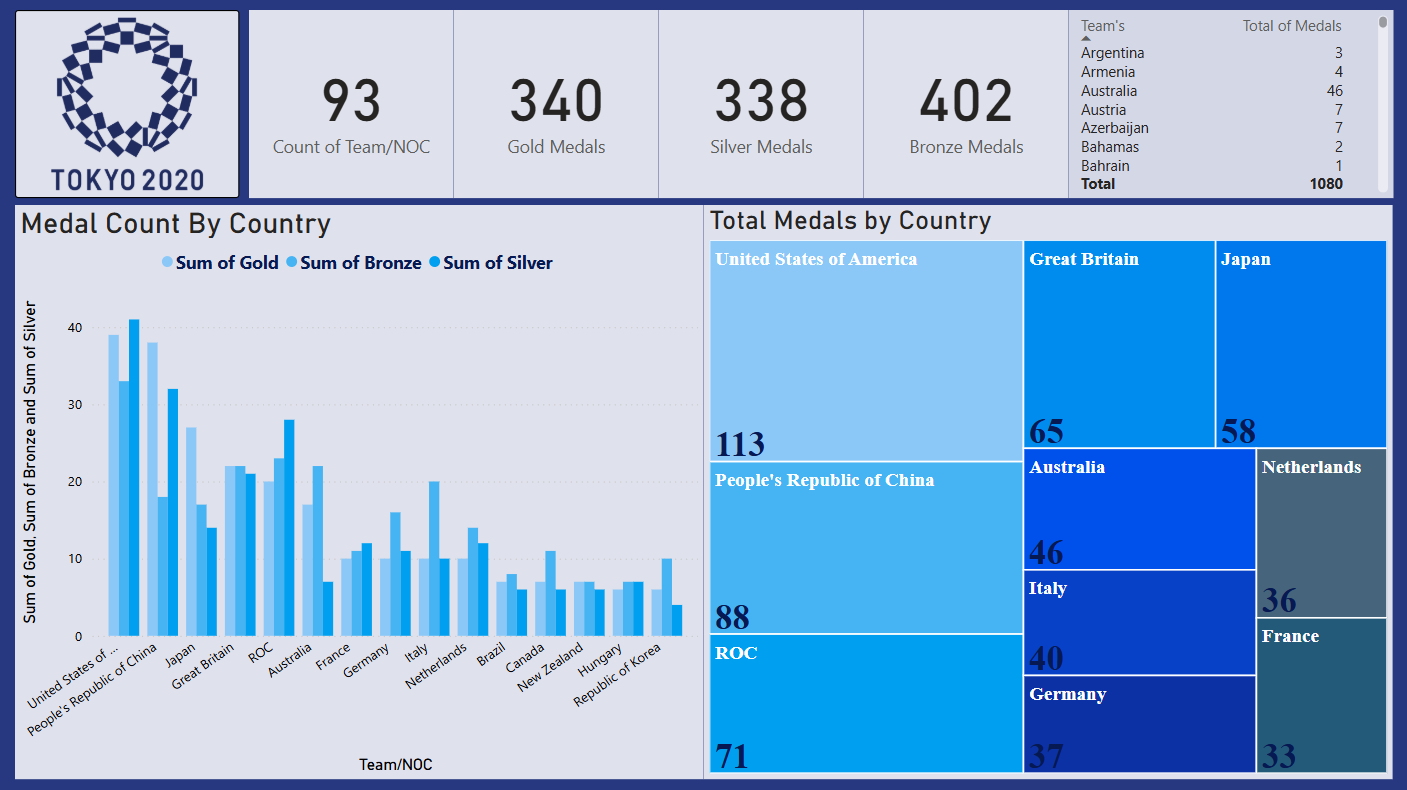

The page's visual inventory and layout, read from the dashboard file:
{"tool":"powerbi","page":{"name":"Page 1","canvas":[1280,720],"ordinal":0},"visuals":[{"type":"card","title":"Medal Type Distribution","fields":{"Values":["Sum(Tokyo Olympic Data (Tokyo Olympic).Gold)"]},"box":[412.7,9.1,186.4,170.9],"z":0},{"type":"card","title":"Medal Type Distribution","fields":{"Values":["Sum(Tokyo Olympic Data (Tokyo Olympic).Silver)"]},"box":[599.1,9.1,186.4,170.9],"z":1000},{"type":"card","title":"Medal Type Distribution","fields":{"Values":["Sum(Tokyo Olympic Data (Tokyo Olympic).Bronze)"]},"box":[785.5,9.1,186.4,170.9],"z":2000},{"type":"card","title":"Medal Type Distribution","fields":{"Values":["CountNonNull(Tokyo Olympic Data (Tokyo Olympic).Team/NOC)"]},"box":[226.4,9.1,186.4,170.9],"z":3000},{"type":"clusteredColumnChart","title":"Medal Count By Country","fields":{"Category":["Tokyo Olympic Data (Tokyo Olympic).Team/NOC"],"Y":["Sum(Tokyo Olympic Data (Tokyo Olympic).Gold)","Sum(Tokyo Olympic Data (Tokyo Olympic).Bronze)","Sum(Tokyo Olympic Data (Tokyo Olympic).Silver)"]},"box":[13.6,186.4,626.4,521.8],"z":4000},{"type":"treemap","title":"Total Medals by Country","fields":{"Group":["Tokyo Olympic Data (Tokyo Olympic).Team/NOC"],"Values":["Sum(Tokyo Olympic Data (Tokyo Olympic).Total)"]},"box":[640,186.4,626.4,521.8],"z":5000},{"type":"image","box":[13.6,9.1,203.6,170.9],"z":6000},{"type":"tableEx","fields":{"Values":["Tokyo Olympic Data (Tokyo Olympic).Team/NOC","Sum(Tokyo Olympic Data (Tokyo Olympic).Total)"]},"box":[971.8,9.1,294.5,170.9],"z":6001}]}

Visuals, with their boxes in screenshot pixels (x1, y1, x2, y2), scaled from the page's 1280x720 canvas onto the 1407x790 screenshot:
"Medal Type Distribution" card: BBox(454, 10, 659, 198)
"Medal Type Distribution" card: BBox(659, 10, 863, 198)
"Medal Type Distribution" card: BBox(863, 10, 1068, 198)
"Medal Type Distribution" card: BBox(249, 10, 454, 198)
"Medal Count By Country" clusteredColumnChart: BBox(15, 205, 704, 777)
"Total Medals by Country" treemap: BBox(704, 205, 1392, 777)
image: BBox(15, 10, 239, 198)
tableEx - Tokyo Olympic Data (Tokyo Olympic).Team/NOC x Sum(Tokyo Olympic Data (Tokyo Olympic).Total): BBox(1068, 10, 1392, 198)
